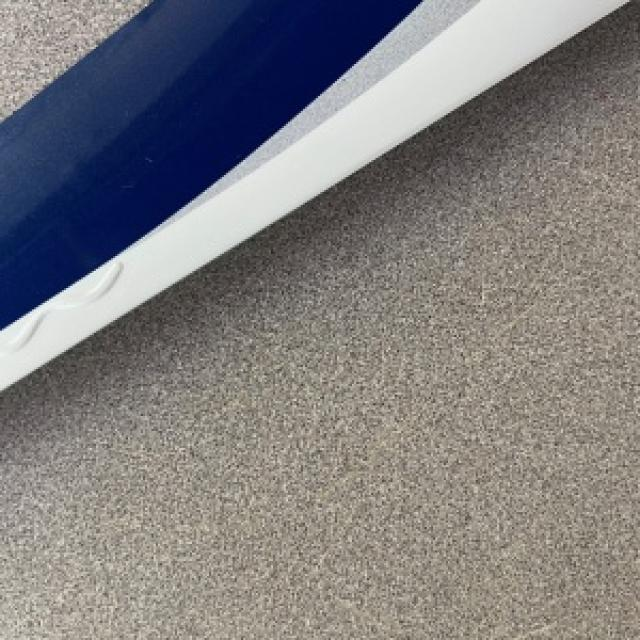healthy: (0, 0, 638, 638), (0, 0, 621, 384)
